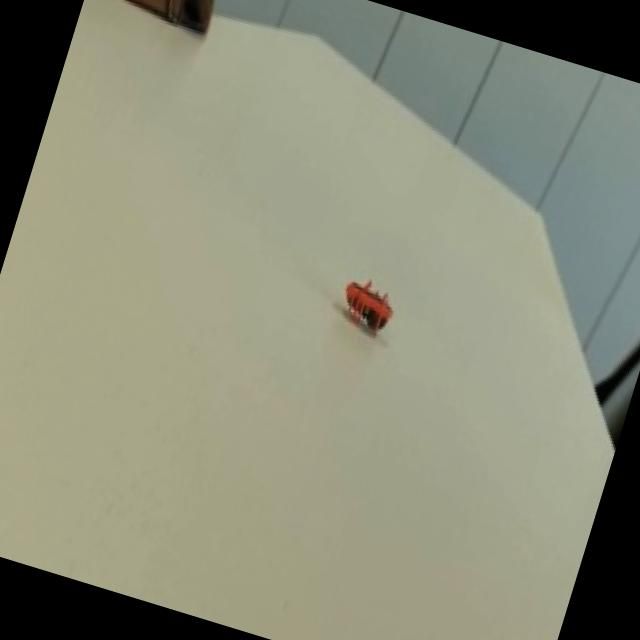7_NanoBug_Naranja: (319, 256, 423, 357)
